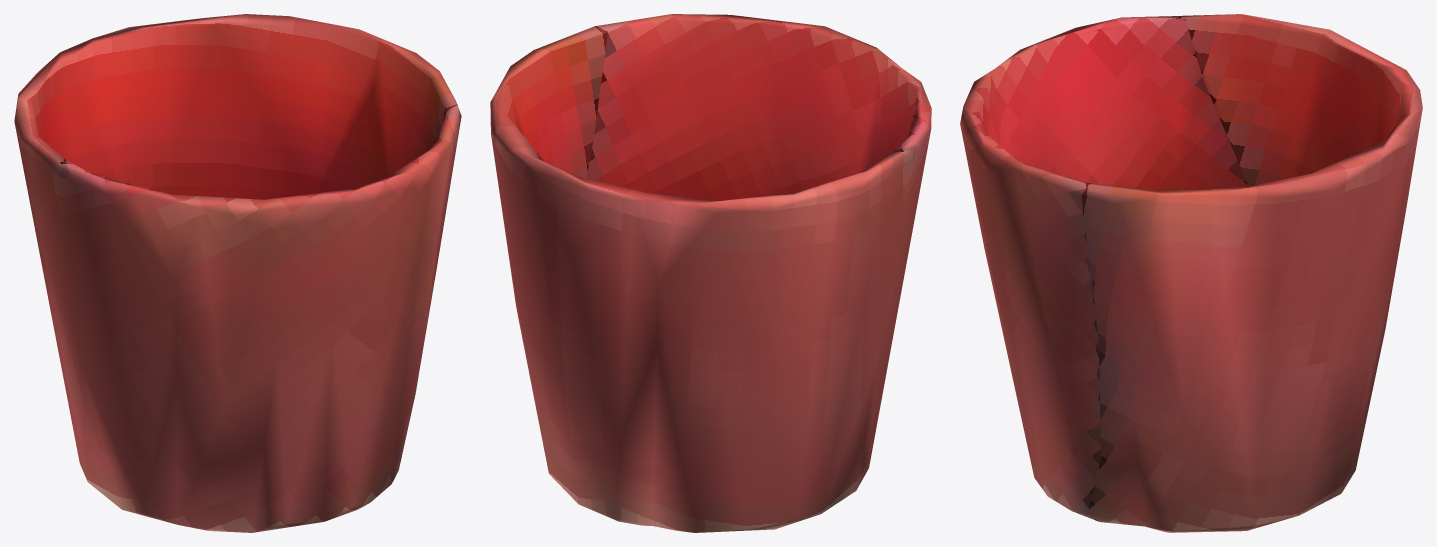
File: Sapota_Threshold_4_Ceramic_Round_Planter_Red-low.glb
The picture shows the model from 3 angles, left to right: view 1: azimuth 30°, elevation 25°; view 2: azimuth 150°, elevation 25°; view 3: azimuth 270°, elevation 25°; orthographic projection.
Parts seen in each view (by area): view 1: Sapota_Threshold_4_Ceramic_Round_Planter_Red; view 2: Sapota_Threshold_4_Ceramic_Round_Planter_Red; view 3: Sapota_Threshold_4_Ceramic_Round_Planter_Red.
Boxes of the visible parts, x1,y1,x2,y2 form: Sapota_Threshold_4_Ceramic_Round_Planter_Red: (14, 14, 461, 532); Sapota_Threshold_4_Ceramic_Round_Planter_Red: (490, 14, 931, 532); Sapota_Threshold_4_Ceramic_Round_Planter_Red: (960, 14, 1422, 532).
Bounding box in the file's own units: 0.1049 × 0.0968 × 0.1093.
1 material, 1 textured.
